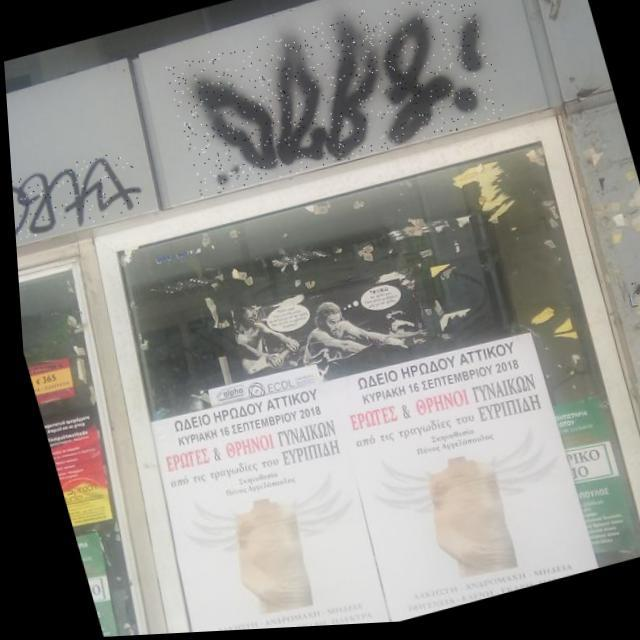-: (158, 0, 510, 202), (8, 148, 146, 248), (624, 276, 640, 344)
